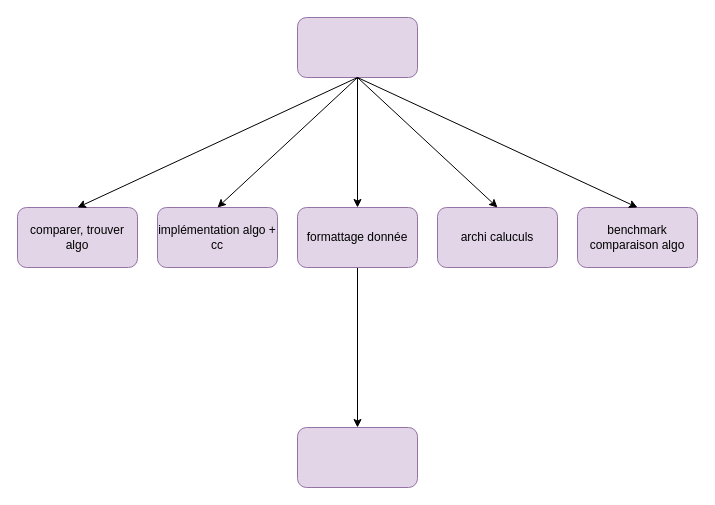
The diagram is 715 pixels wide and 505 high, and some of its shapes have lost their labels. The shapes that lost their labels are listed below. From the top down, each one's centre as x and y in pixels, then its label:
At point 357,47: "Algo".
At point 357,457: "mémoïsation ?".
